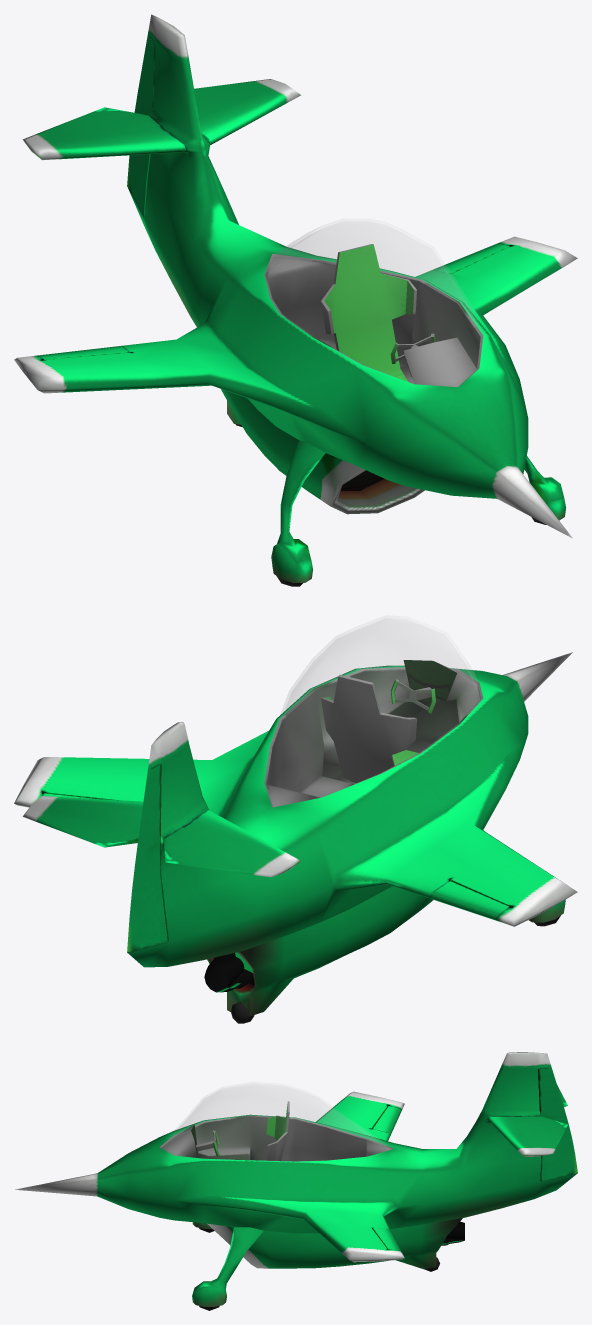
The model's file is space_plane.gltf.
The picture shows the model from 3 angles, top to bottom: view 1: azimuth 30°, elevation 25°; view 2: azimuth 150°, elevation 25°; view 3: azimuth 270°, elevation 25°; orthographic projection. The views are drawn at different scales.
Parts seen in each view (by area): view 1: body, elevator, seat, cockpit, keel, ailerons; view 2: body, elevator, cockpit, seat, keel, ailerons, handle; view 3: body, cockpit, keel, elevator, seat, ailerons.
Boxes of the visible parts, x1,y1,x2,y2 form: body: [14, 14, 577, 583]; elevator: [22, 79, 300, 160]; seat: [321, 244, 416, 381]; cockpit: [265, 221, 480, 336]; keel: [127, 35, 155, 217]; ailerons: [38, 243, 509, 359]; body: [14, 652, 577, 1016]; elevator: [23, 796, 300, 877]; cockpit: [273, 618, 482, 745]; seat: [321, 674, 418, 782]; keel: [127, 764, 167, 952]; ailerons: [42, 793, 509, 920]; handle: [390, 679, 435, 713]; body: [15, 1052, 577, 1306]; cockpit: [162, 1083, 391, 1159]; keel: [538, 1068, 577, 1181]; elevator: [488, 1085, 567, 1156]; seat: [266, 1101, 289, 1160]; ailerons: [372, 1106, 401, 1251].
Size of the model in its own units: 4.27 by 2.62 by 6.11.
Materials: 4 (2 with a texture image).
